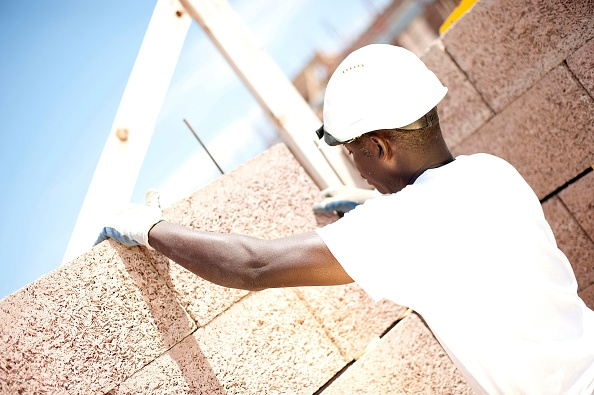em pe: (18, 76, 550, 382)
